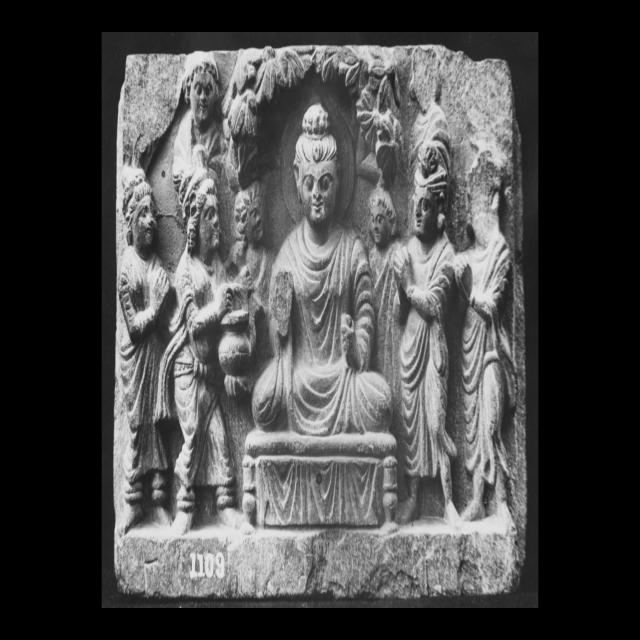buddha-sitting: (248, 76, 402, 536)
